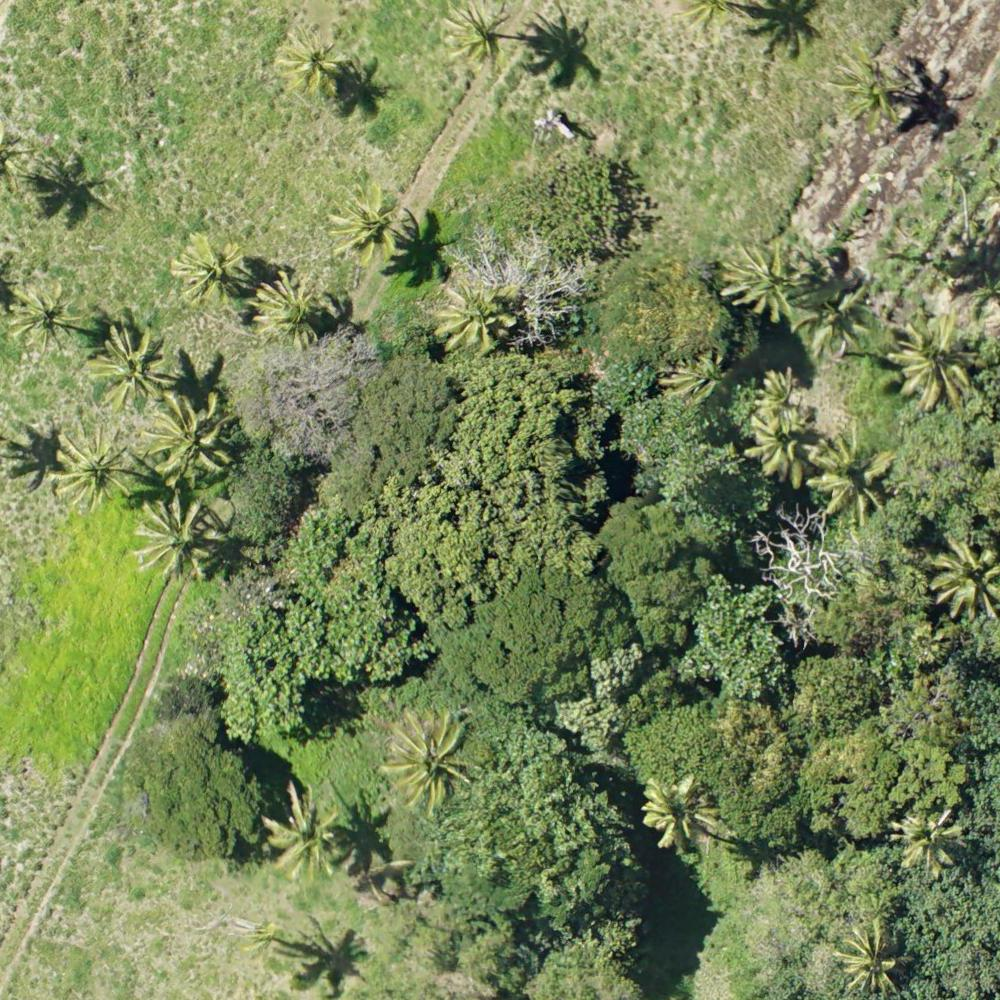Palm: (383, 710, 476, 806), (258, 780, 349, 878), (891, 314, 981, 409), (723, 232, 809, 322), (133, 496, 221, 583), (145, 394, 229, 482), (830, 47, 913, 136), (428, 277, 518, 359), (52, 423, 135, 509), (85, 323, 168, 409), (746, 389, 819, 484), (813, 425, 891, 513), (832, 911, 918, 989), (636, 778, 725, 849), (324, 185, 405, 263), (173, 232, 249, 308), (929, 533, 998, 616), (9, 279, 84, 354), (442, 2, 511, 76), (891, 804, 963, 874), (254, 271, 321, 345), (275, 30, 343, 97)
